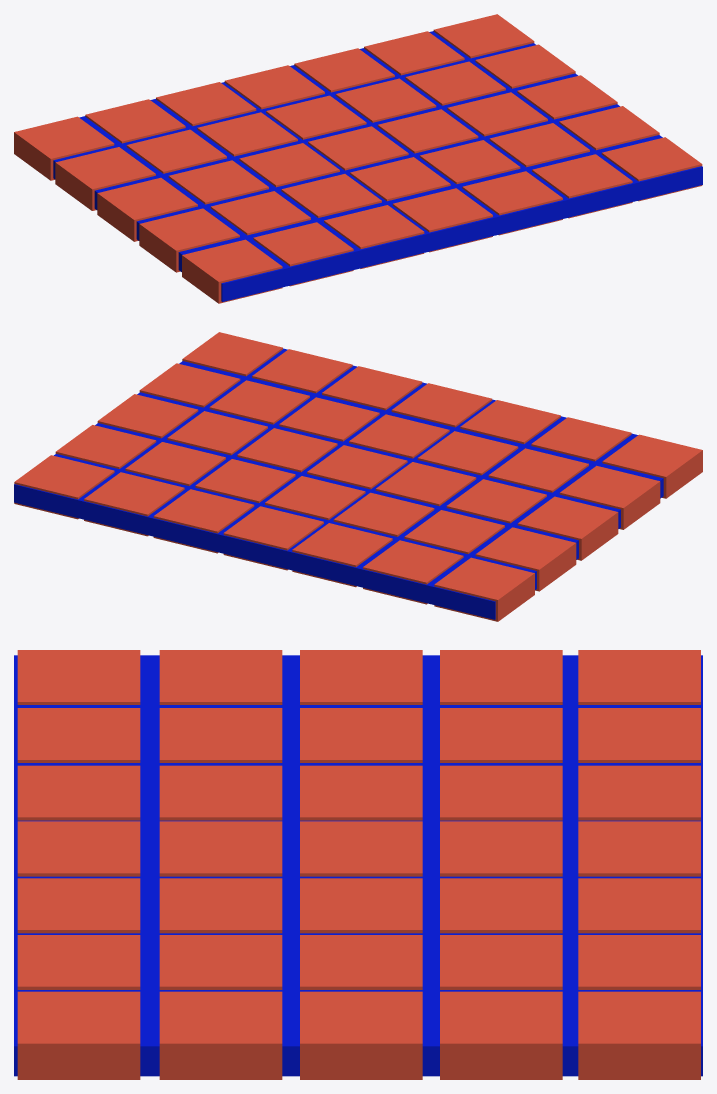
The model's file is NewFloor.fbx.
3 renders of one model, top to bottom at view 1: azimuth 30°, elevation 25°; view 2: azimuth 150°, elevation 25°; view 3: azimuth 270°, elevation 25°, orthographic. The views are drawn at different scales.
Visible parts, largest first — view 1: Blocks, Cube; view 2: Blocks, Cube; view 3: Blocks, Cube.
Part boxes in pixels (box(x1,y1,x2,y2)): Blocks: box(14, 14, 702, 303); Cube: box(53, 31, 702, 301); Blocks: box(14, 332, 702, 621); Cube: box(14, 348, 663, 619); Blocks: box(17, 650, 700, 1079); Cube: box(14, 655, 702, 1076).
Size of the model in its own units: 4633 by 200 by 3429.
